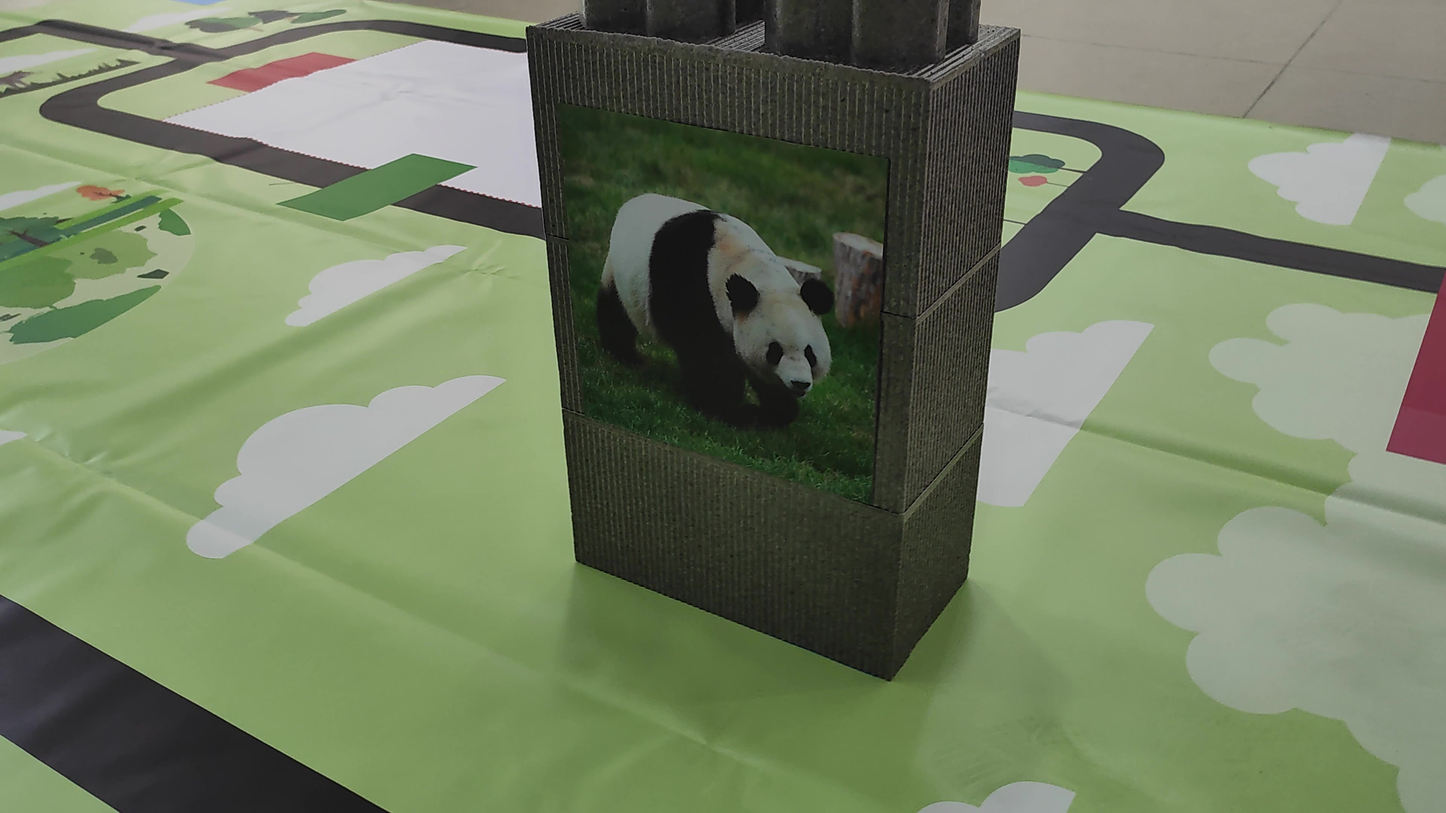panda: (569, 114, 874, 495)
